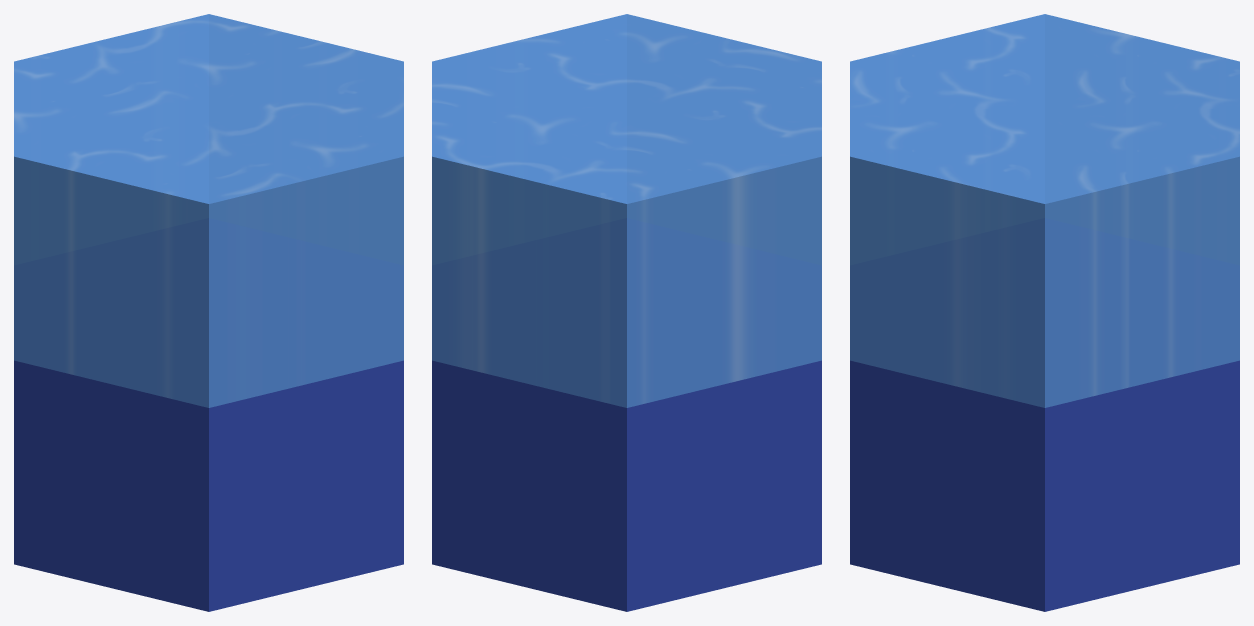
The model's file is WaterTileFinal.fbx.
3 views of the same model, side by side, from view 1: azimuth 30°, elevation 25°; view 2: azimuth 150°, elevation 25°; view 3: azimuth 270°, elevation 25° (orthographic).
Visible parts, largest first — view 1: Gengon042, Gengon041; view 2: Gengon042, Gengon041; view 3: Gengon042, Gengon041.
Boxes of the visible parts, <box> form: Gengon042: <box>14,14,403,407</box>; Gengon041: <box>14,360,403,611</box>; Gengon042: <box>432,14,821,407</box>; Gengon041: <box>432,360,821,611</box>; Gengon042: <box>850,14,1239,407</box>; Gengon041: <box>850,360,1239,611</box>.
Size of the model in its own units: 2 by 1.73 by 2.
2 materials, 1 textured.
